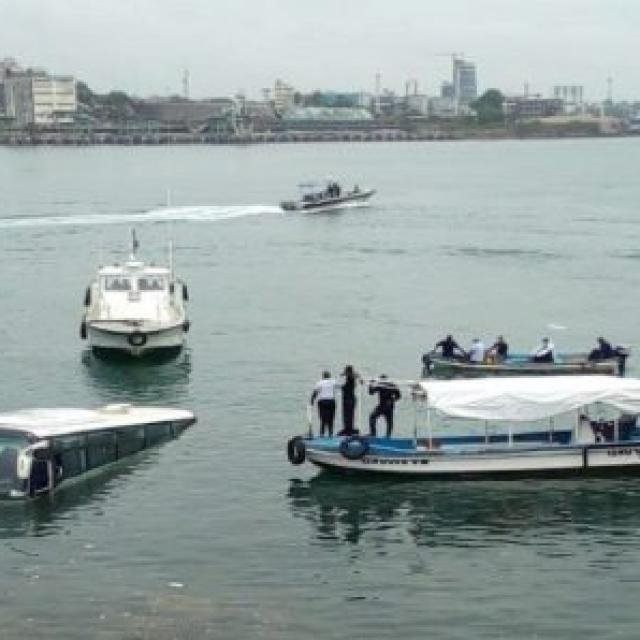houseboat: (69, 250, 194, 362)
